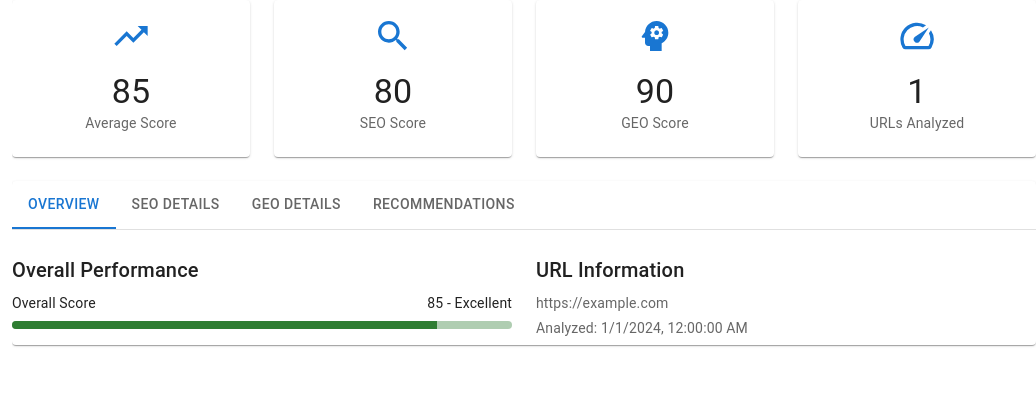
Test: ResultsDashboard Component › switches between tabs correctly
This screenshot has width=1036, height=408.
// Click SEO Details tab
Click the tab "SEO Details".
click(176, 205)  # box [116, 181, 236, 229]
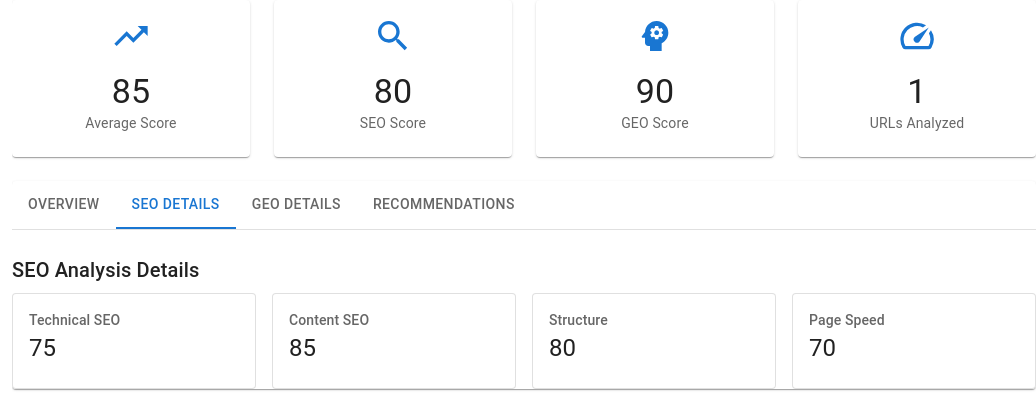
Now the heading "SEO Analysis Details" is shown, box [12, 258, 200, 282]
Now the heading "Technical SEO" is shown, box [29, 312, 120, 328]
// Click GEO Details tab
Click the tab "GEO Details".
click(296, 205)  # box [236, 181, 357, 229]
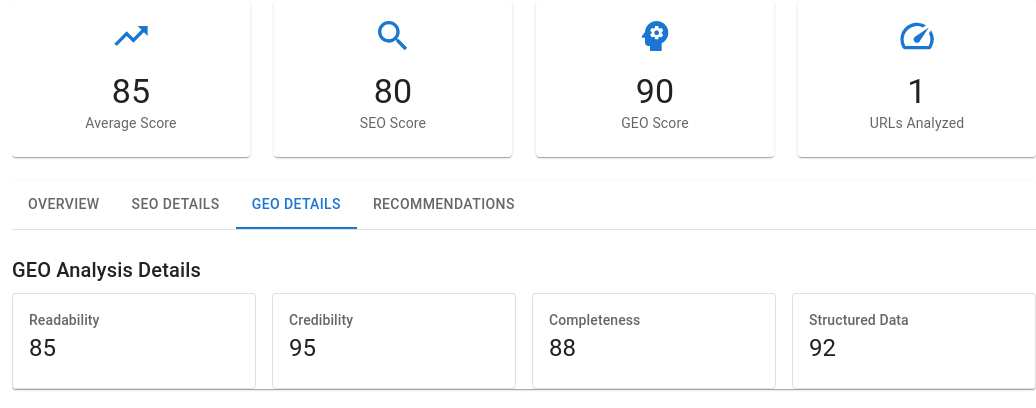
Now the heading "GEO Analysis Details" is shown, box [12, 258, 201, 282]
Now the heading "Readability" is shown, box [29, 312, 100, 328]
